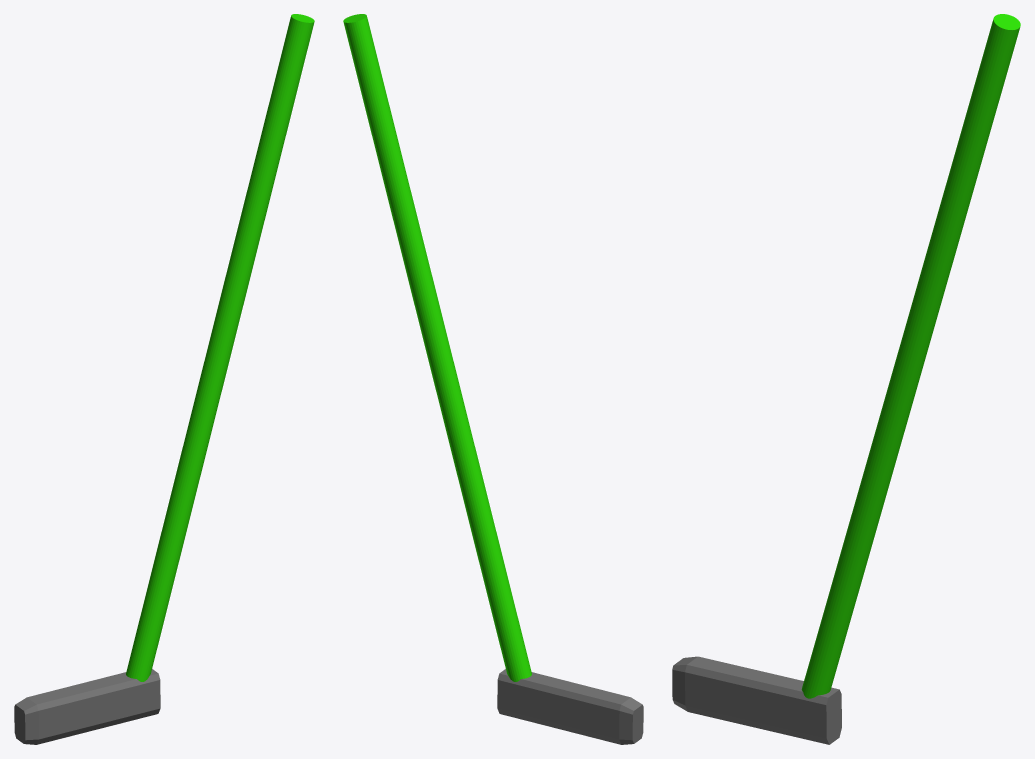
The model's file is Putter(low poly).fbx.
3 views of the same model, side by side, from view 1: azimuth 30°, elevation 25°; view 2: azimuth 150°, elevation 25°; view 3: azimuth 330°, elevation 25° (orthographic). The views are drawn at different scales.
Parts seen in each view (by area): view 1: Cylinder, Cube; view 2: Cylinder, Cube; view 3: Cylinder, Cube.
Boxes of the visible parts, x1,y1,x2,y2 form: Cylinder: (126, 14, 314, 681); Cube: (14, 669, 160, 744); Cylinder: (343, 14, 531, 681); Cube: (497, 669, 643, 744); Cylinder: (801, 14, 1020, 698); Cube: (672, 656, 841, 744).
Size of the model in its own units: 888 by 1910 by 68.87.
